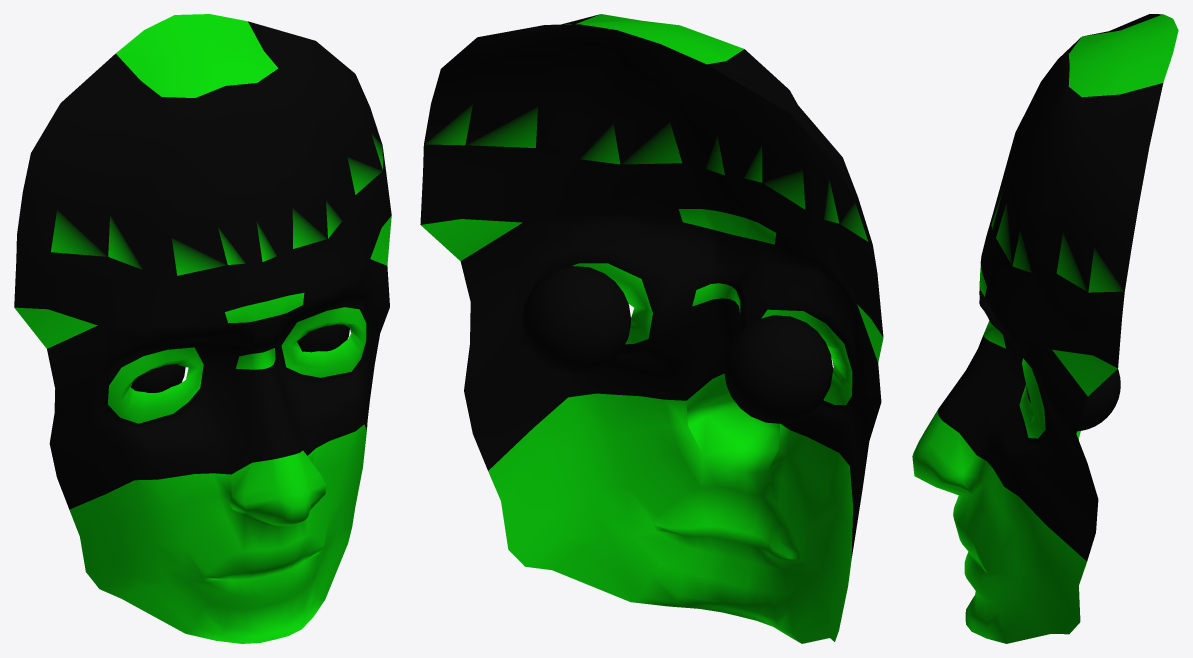
File: Face Front.fbx
3 renders of one model, left to right at view 1: azimuth 30°, elevation 25°; view 2: azimuth 150°, elevation 25°; view 3: azimuth 270°, elevation 25°, orthographic. The views are drawn at different scales.
Parts seen in each view (by area): view 1: Front; view 2: Front; view 3: Front.
Part boxes in pixels (box(x1,y1,x2,y2)): Front: box(14, 14, 391, 643); Front: box(420, 14, 883, 643); Front: box(912, 14, 1178, 643).
Size of the model in its own units: 0.298 by 0.4159 by 0.171.
